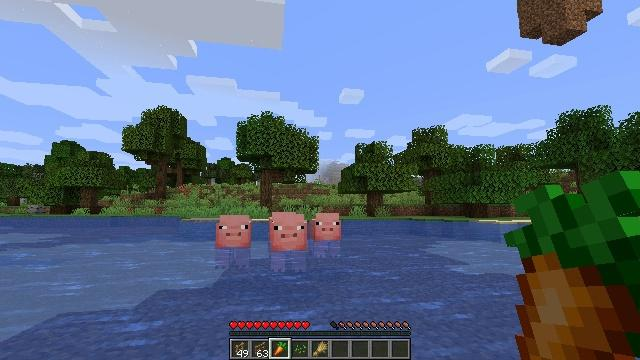pig: (270, 212, 305, 273), (214, 215, 252, 270), (309, 213, 341, 259)
